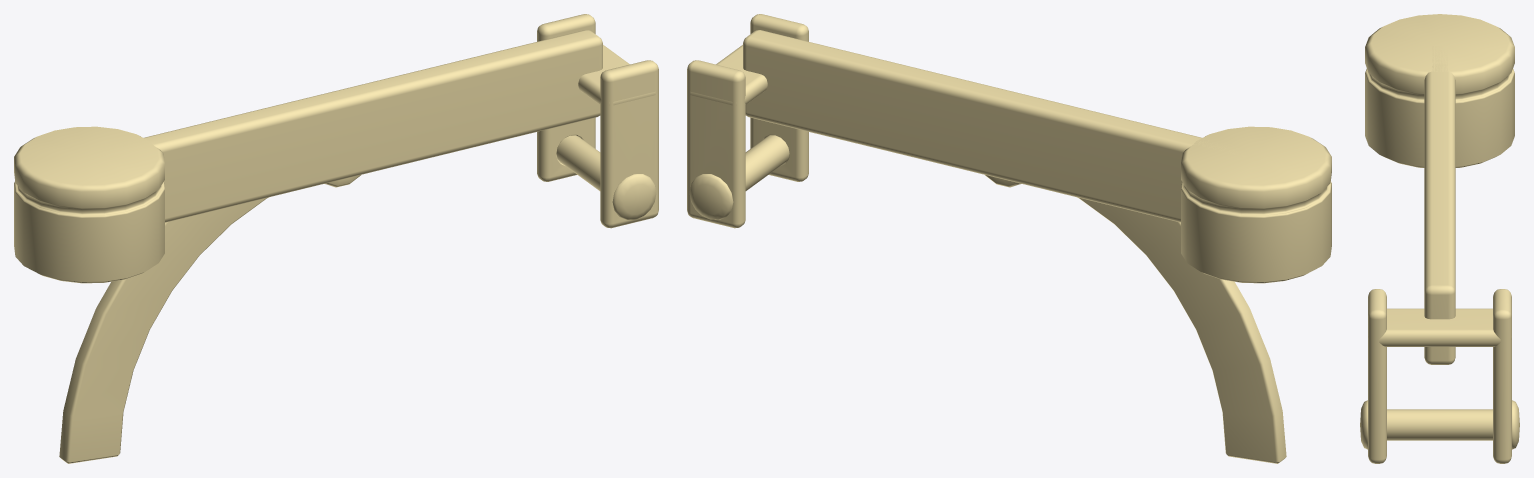
3 views of the same model, side by side, from view 1: azimuth 30°, elevation 25°; view 2: azimuth 150°, elevation 25°; view 3: azimuth 270°, elevation 25° (orthographic).
Parts seen in each view (by area): view 1: Fixed / Polished pale brass, Yoke cheek, Yoke cheek.001; view 2: Fixed / Polished pale brass, Yoke cheek.001, Yoke cheek; view 3: Fixed / Polished pale brass, Yoke cheek, Yoke cheek.001.
Boxes of the visible parts, x1,y1,x2,y2 form: Fixed / Polished pale brass: (14, 30, 656, 463); Yoke cheek: (600, 60, 658, 228); Yoke cheek.001: (537, 14, 595, 181); Fixed / Polished pale brass: (689, 30, 1331, 463); Yoke cheek.001: (687, 60, 745, 228); Yoke cheek: (750, 14, 808, 181); Fixed / Polished pale brass: (1360, 14, 1519, 449); Yoke cheek: (1368, 289, 1386, 463); Yoke cheek.001: (1493, 289, 1511, 463).
Bounding box in the file's own units: 0.0549 × 0.0266 × 0.0128.
